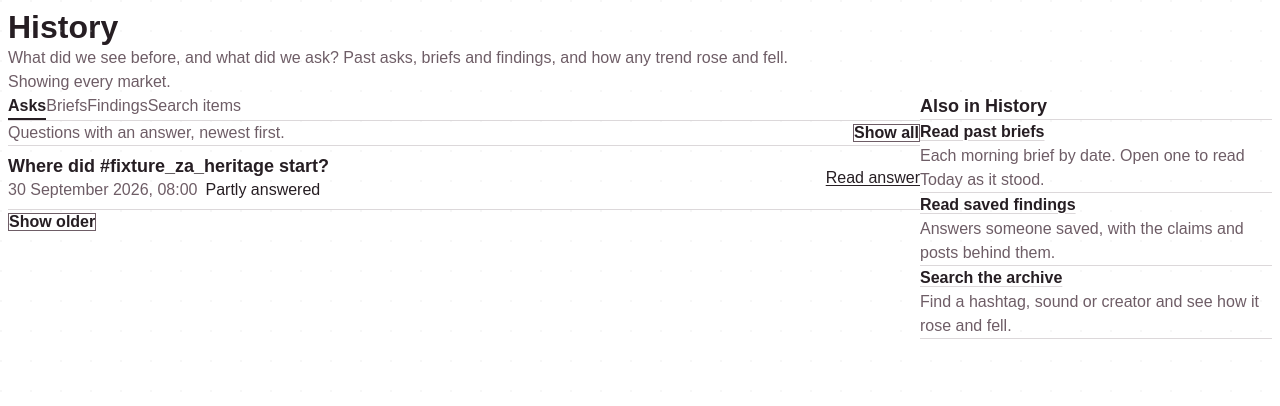
Test: Findings show each saved question, answer and claims, with the words about whether they still hold
Click the tab "Findings".
click(117, 107)  # box 87,94 -> 148,120
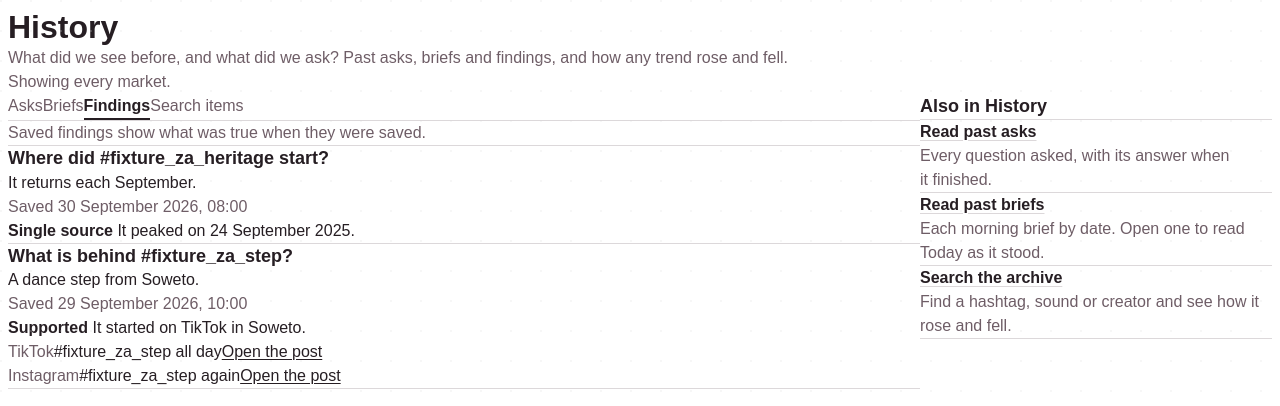
Result: the list item that starts with "What is behind #fixture_za_step?" is shown at 8,246 -> 293,266
Result: the list item that starts with "What is behind #fixture_za_step?" shows "A dance step from Soweto." at 8,271 -> 199,288
Result: the list item that starts with "What is behind #fixture_za_step?" shows "It started on TikTok in Soweto." at 92,319 -> 306,336
